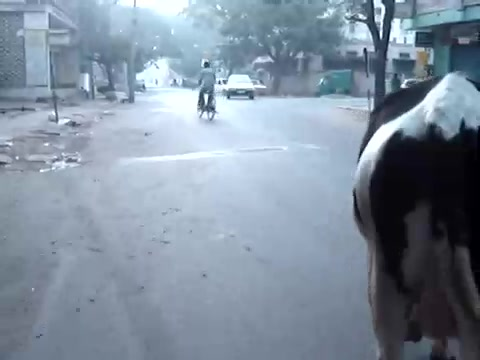cow: (353, 73, 480, 360)
